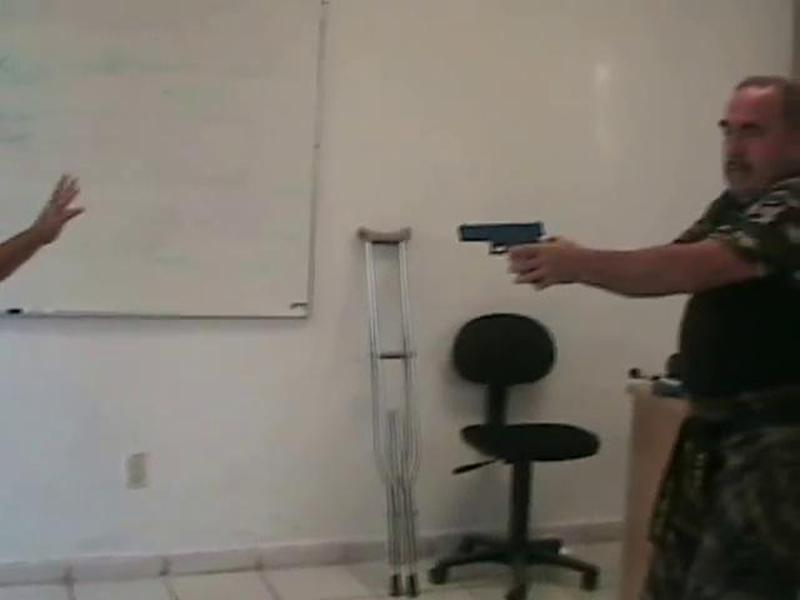Pistola: (438, 205, 580, 301)
